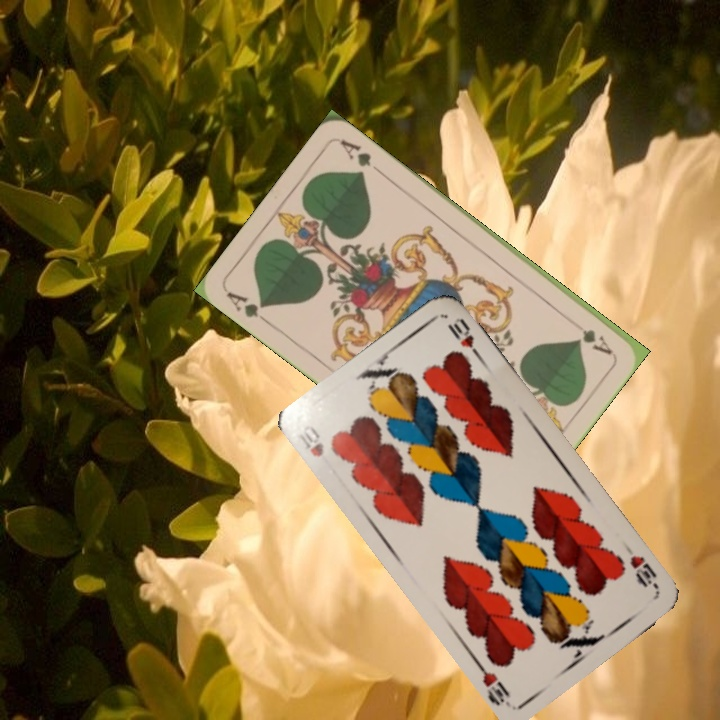GA: (222, 287, 274, 328), (567, 315, 615, 358)
H10: (620, 542, 662, 592), (295, 420, 327, 460)
